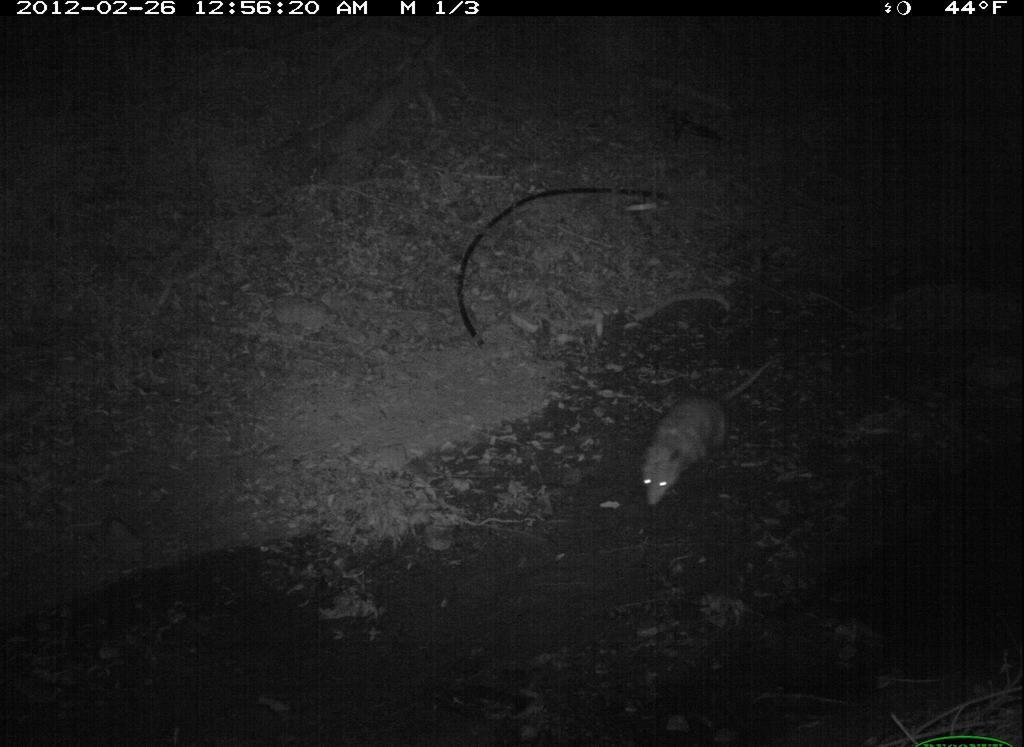opossum: (628, 355, 776, 514)
